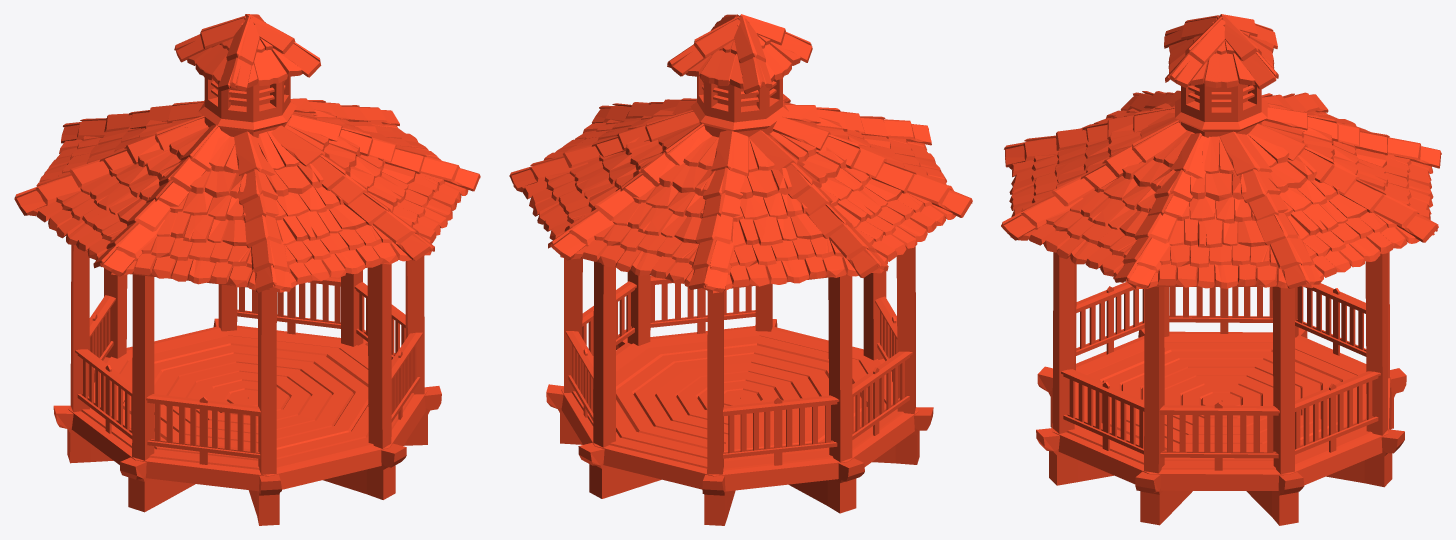
The model's file is SM_Gazeebo_A_City.fbx.
3 views of the same model, side by side, from view 1: azimuth 30°, elevation 25°; view 2: azimuth 150°, elevation 25°; view 3: azimuth 270°, elevation 25° (orthographic).
Parts seen in each view (by area): view 1: SM_Gazeebo_A_City; view 2: SM_Gazeebo_A_City; view 3: SM_Gazeebo_A_City.
Part boxes in pixels (box(x1,y1,x2,y2)): SM_Gazeebo_A_City: box(14, 14, 480, 525); SM_Gazeebo_A_City: box(509, 14, 972, 525); SM_Gazeebo_A_City: box(1001, 14, 1441, 525).
Bounding box in the file's own units: 5.5 × 6.06 × 5.53.
